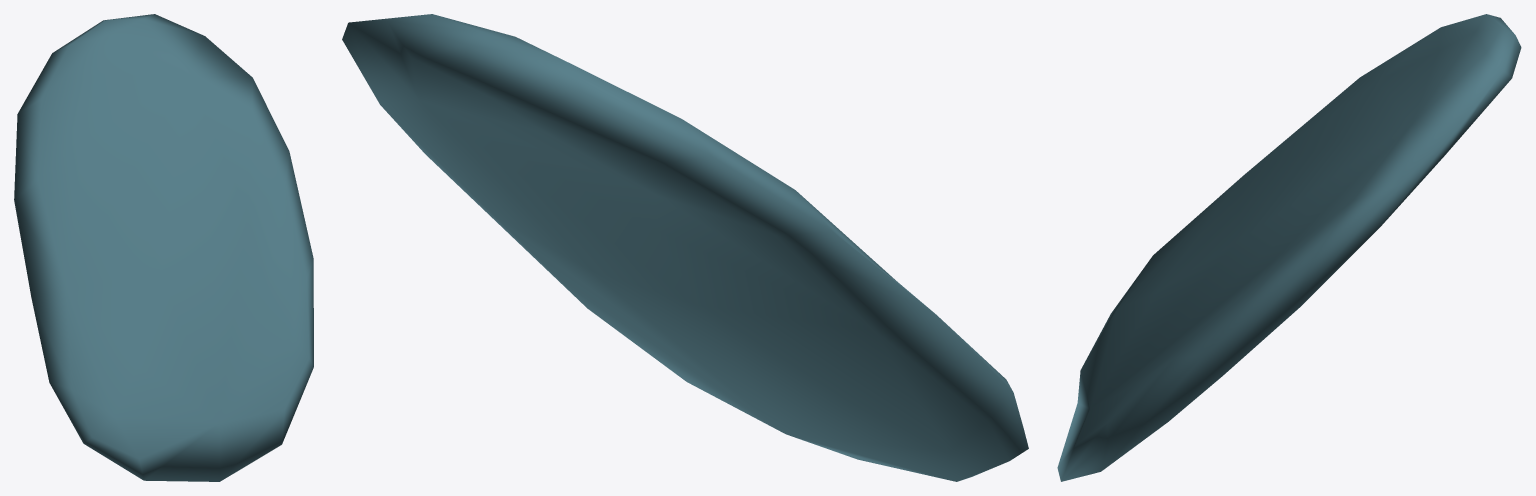
File: Extensor_digitorum-middle_phalanx-3d_finger.r_Generated_Mesh_Fr.glb
3 renders of one model, left to right at view 1: azimuth 30°, elevation 25°; view 2: azimuth 150°, elevation 25°; view 3: azimuth 270°, elevation 25°, orthographic. The views are drawn at different scales.
Parts seen in each view (by area): view 1: Extensor_digitorum-middle_phalanx-3d_finger.r_Generated_Mesh; view 2: Extensor_digitorum-middle_phalanx-3d_finger.r_Generated_Mesh; view 3: Extensor_digitorum-middle_phalanx-3d_finger.r_Generated_Mesh.
Part boxes in pixels (<box>): Extensor_digitorum-middle_phalanx-3d_finger.r_Generated_Mesh: <box>14,14,313,481</box>; Extensor_digitorum-middle_phalanx-3d_finger.r_Generated_Mesh: <box>342,14,1028,481</box>; Extensor_digitorum-middle_phalanx-3d_finger.r_Generated_Mesh: <box>1057,14,1521,481</box>.
Size of the model in its own units: 0.00408 by 0.00454 by 0.00406.
